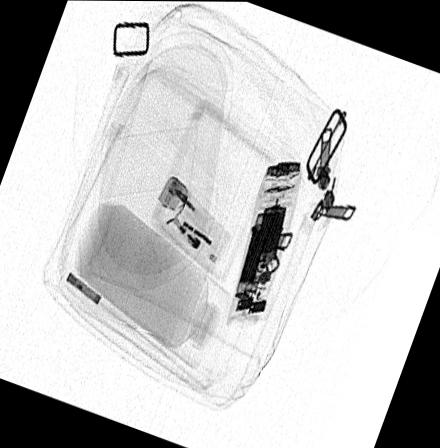Lighter: (149, 175, 231, 270)
